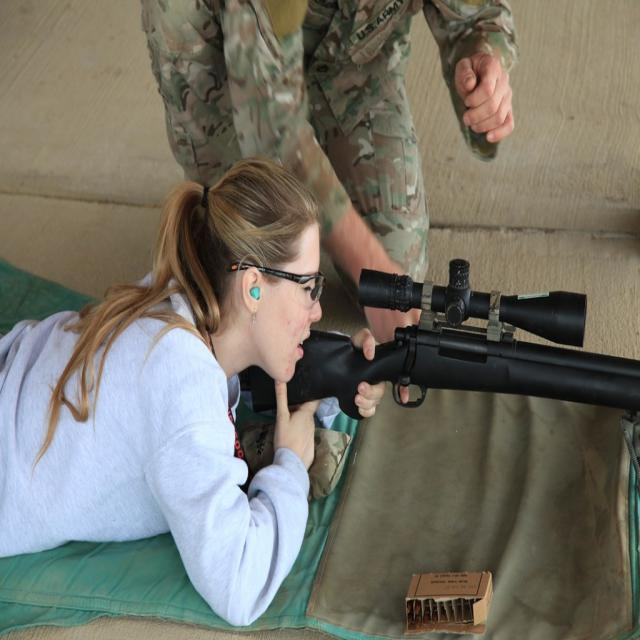Rifle: (250, 254, 640, 412)
